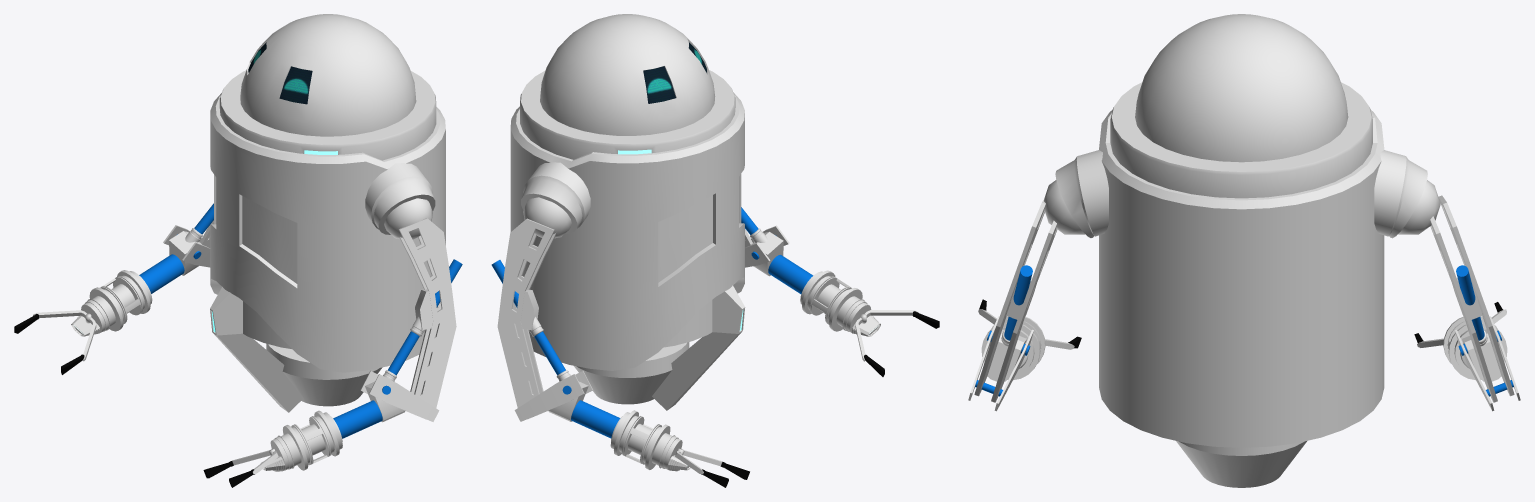
The model's file is WobotV3.2.4(AllAnims).fbx.
3 views of the same model, side by side, from view 1: azimuth 30°, elevation 25°; view 2: azimuth 150°, elevation 25°; view 3: azimuth 270°, elevation 25° (orthographic). The views are drawn at different scales.
Parts seen in each view (by area): view 1: Body, Head, L_UpperArm, L_UnderArm.001, L_UnderArm, L_Hinge, L_UnderArmCylinder, L_UnderArmCylinder.001, L_Cylinder, L_Hinge.001, L_Elbow.001, L_PistonBlock; view 2: Body, Head, L_UpperArm.001, L_UnderArm, L_UnderArm.001, L_Hinge.001, L_UnderArmCylinder.001, L_UnderArmCylinder, L_Cylinder.001, L_Hinge, L_Elbow, L_PistonBlock.002; view 3: Body, Head, L_UpperArm.001, L_UpperArm, L_Hinge, L_Hinge.001, L_UnderArm, L_UnderArm.001, L_Elbow, L_Elbow.001, L_Cylinder, L_Cylinder.001.
Boxes of the visible parts, box(x1,y1,x2,y2) form: Body: box(210, 70, 445, 412); Head: box(240, 14, 416, 136); L_UpperArm: box(399, 218, 456, 407); L_UnderArm.001: box(81, 270, 150, 332); L_UnderArm: box(270, 410, 339, 470); L_Hinge: box(360, 370, 439, 421); L_UnderArmCylinder: box(333, 400, 382, 438); L_UnderArmCylinder.001: box(139, 254, 184, 293); L_Cylinder: box(388, 259, 462, 375); L_Hinge.001: box(163, 225, 210, 267); L_Elbow.001: box(169, 231, 201, 275); L_PistonBlock: box(415, 289, 433, 329); Body: box(510, 70, 745, 410); Head: box(540, 14, 715, 135); L_UpperArm.001: box(497, 218, 555, 407); L_UnderArm: box(802, 270, 871, 332); L_UnderArm.001: box(614, 410, 682, 469); L_Hinge.001: box(514, 371, 592, 421); L_UnderArmCylinder.001: box(571, 400, 620, 438); L_UnderArmCylinder: box(768, 255, 813, 294); L_Cylinder.001: box(491, 260, 565, 375); L_Hinge: box(745, 225, 789, 267); L_Elbow: box(750, 231, 783, 276); L_PistonBlock.002: box(520, 289, 538, 330); Body: box(1044, 82, 1440, 487); Head: box(1135, 14, 1348, 162); L_UpperArm.001: box(1430, 195, 1514, 402); L_UpperArm: box(974, 200, 1057, 402); L_Hinge: box(968, 316, 1033, 411); L_Hinge.001: box(1455, 316, 1520, 411); L_UnderArm: box(981, 316, 1045, 380); L_UnderArm.001: box(1443, 316, 1507, 380); L_Elbow: box(983, 329, 1026, 381); L_Elbow.001: box(1462, 329, 1505, 381); L_Cylinder: box(1004, 265, 1032, 340); L_Cylinder.001: box(1456, 265, 1484, 340).
Bounding box in the file's own units: 3.03 × 3.52 × 3.87.
